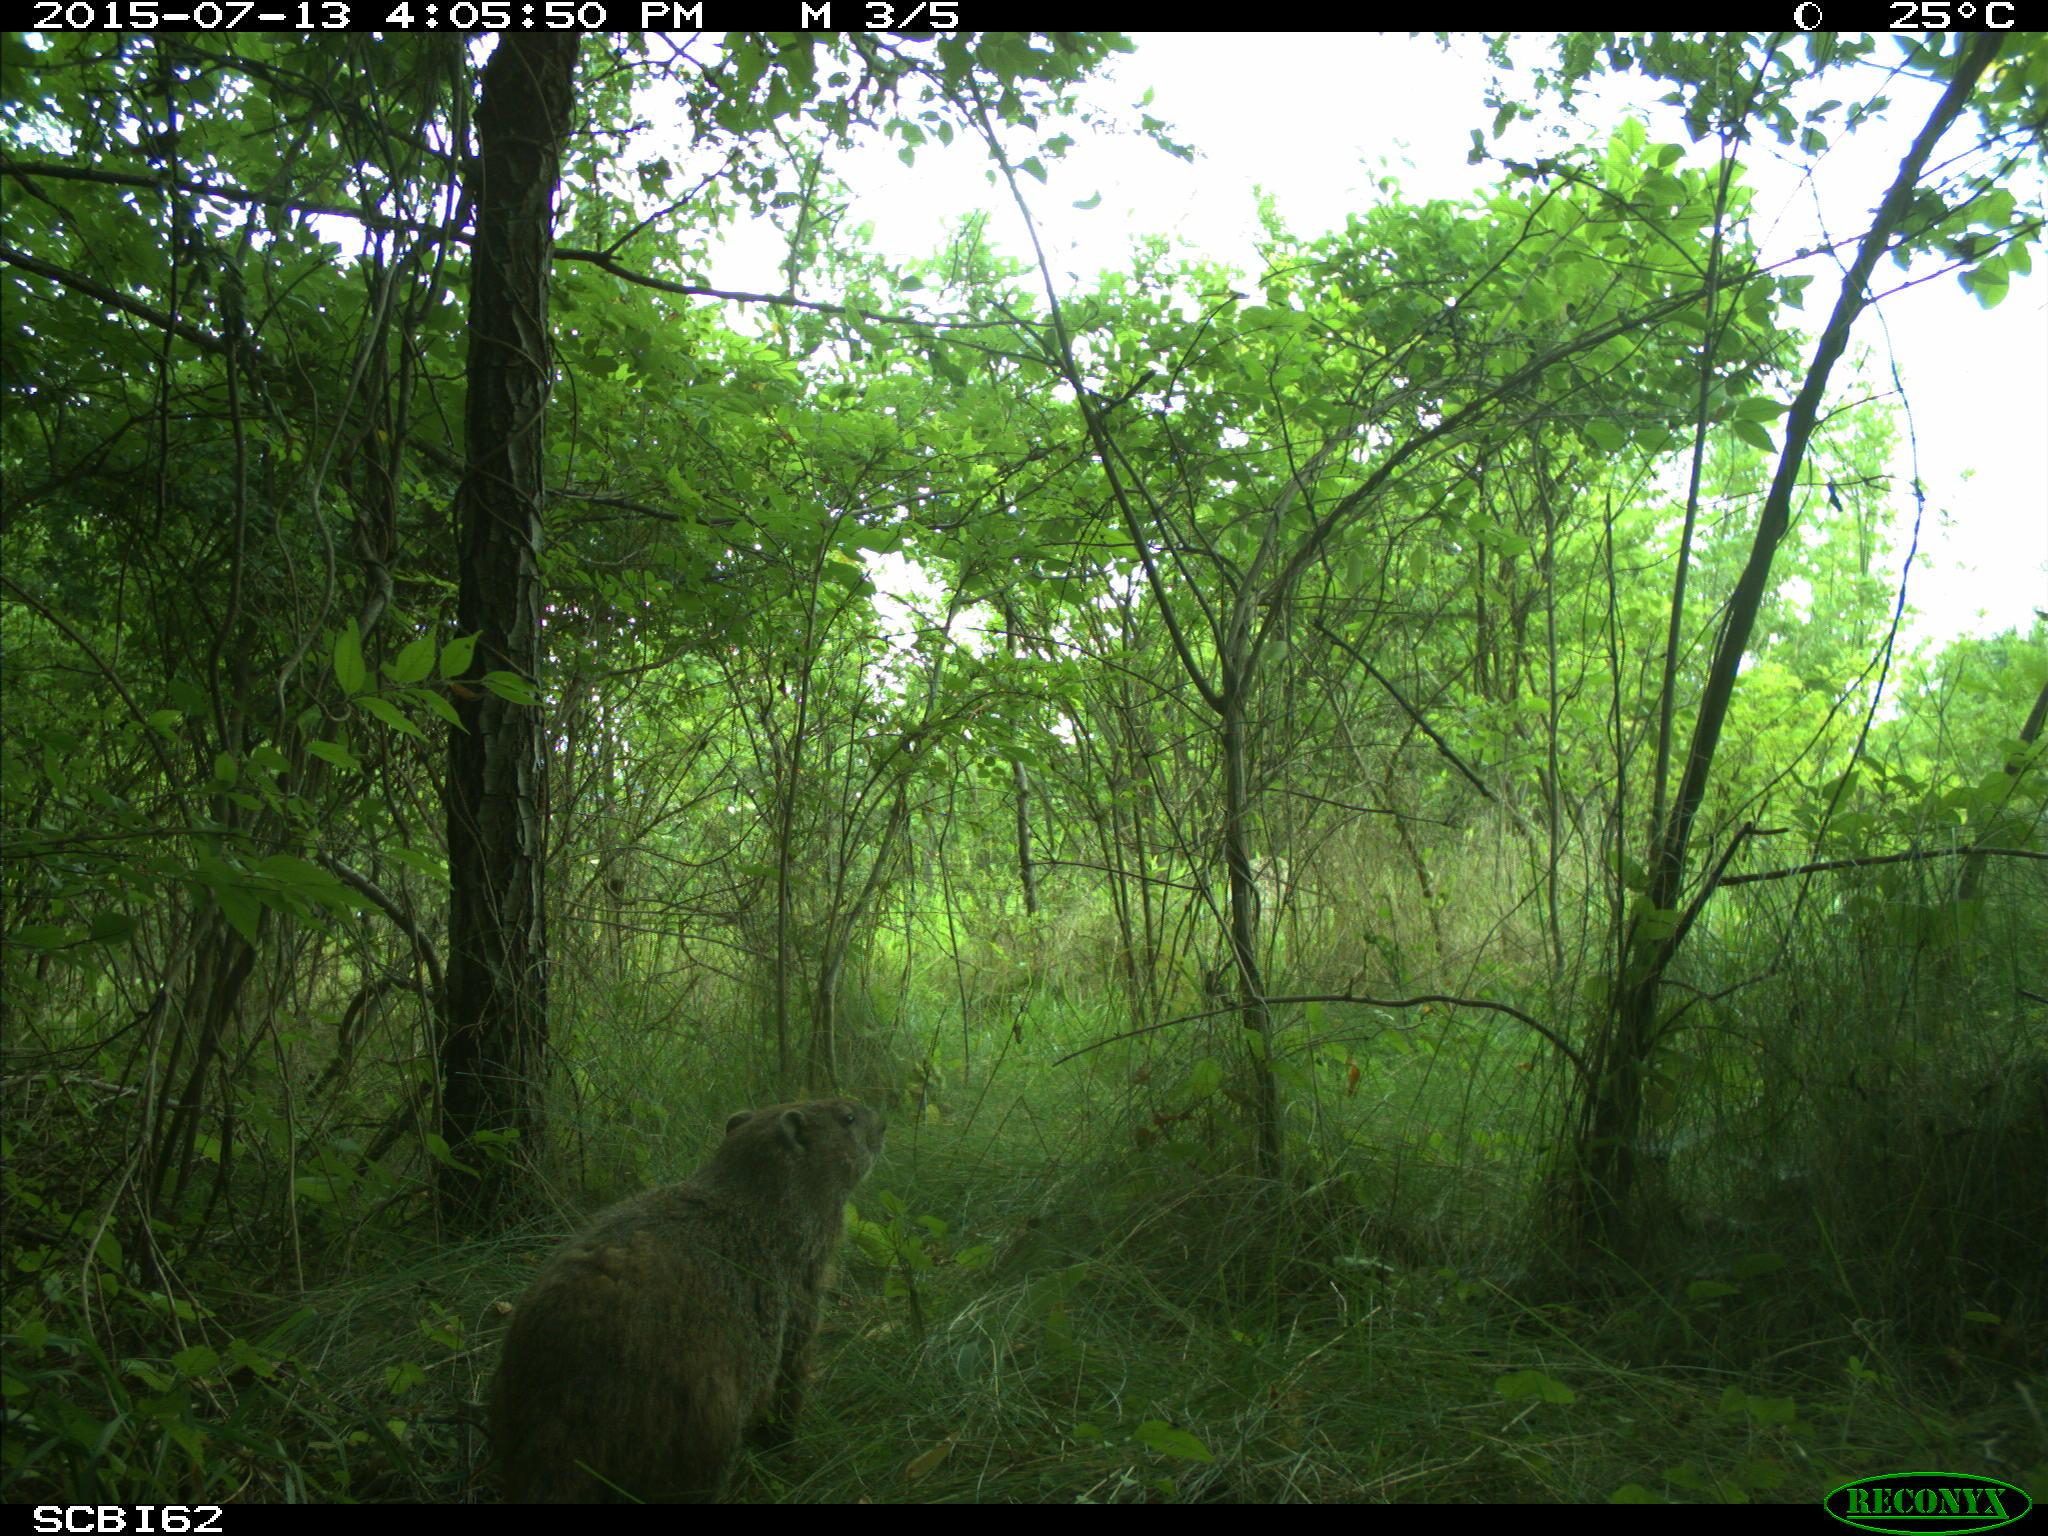Animal: (485, 1091, 889, 1504)
